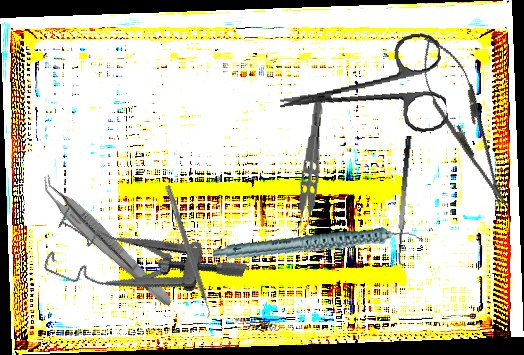Handpiece: (212, 202, 424, 288)
Iris Scissors: (273, 31, 450, 149)
Needle Holder: (406, 28, 524, 217)
Spatula Surgical: (158, 184, 216, 320), (391, 135, 423, 267)
Speculum: (40, 190, 249, 342)
Tissue Forceps: (32, 172, 182, 310), (291, 97, 326, 234)
